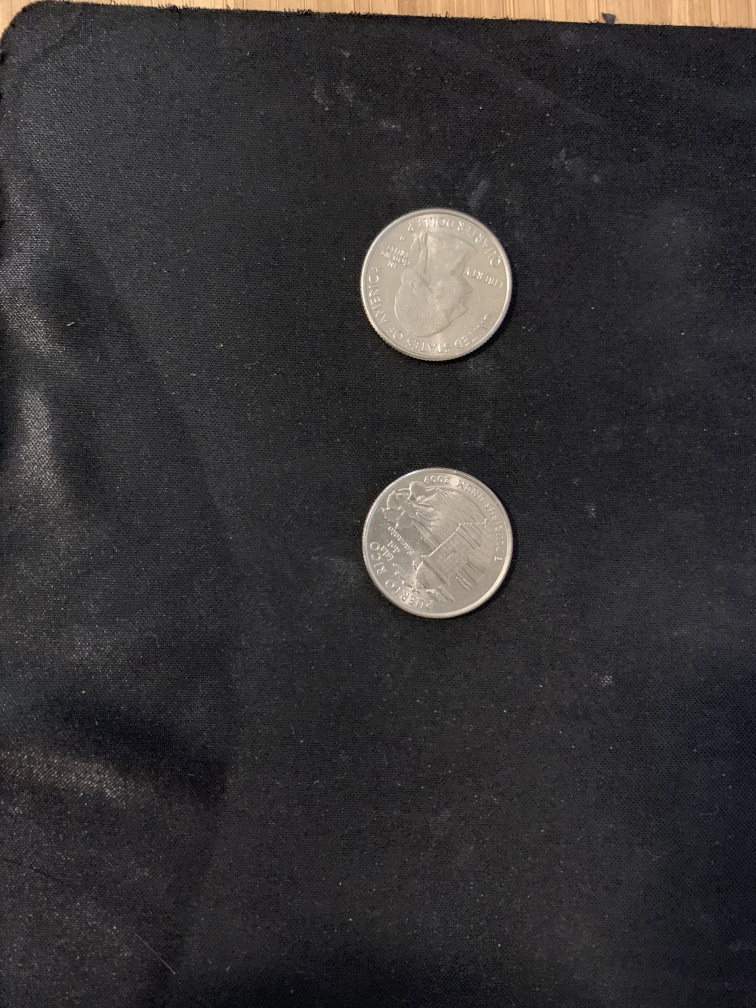quarter: (354, 201, 518, 366), (355, 461, 521, 624)
